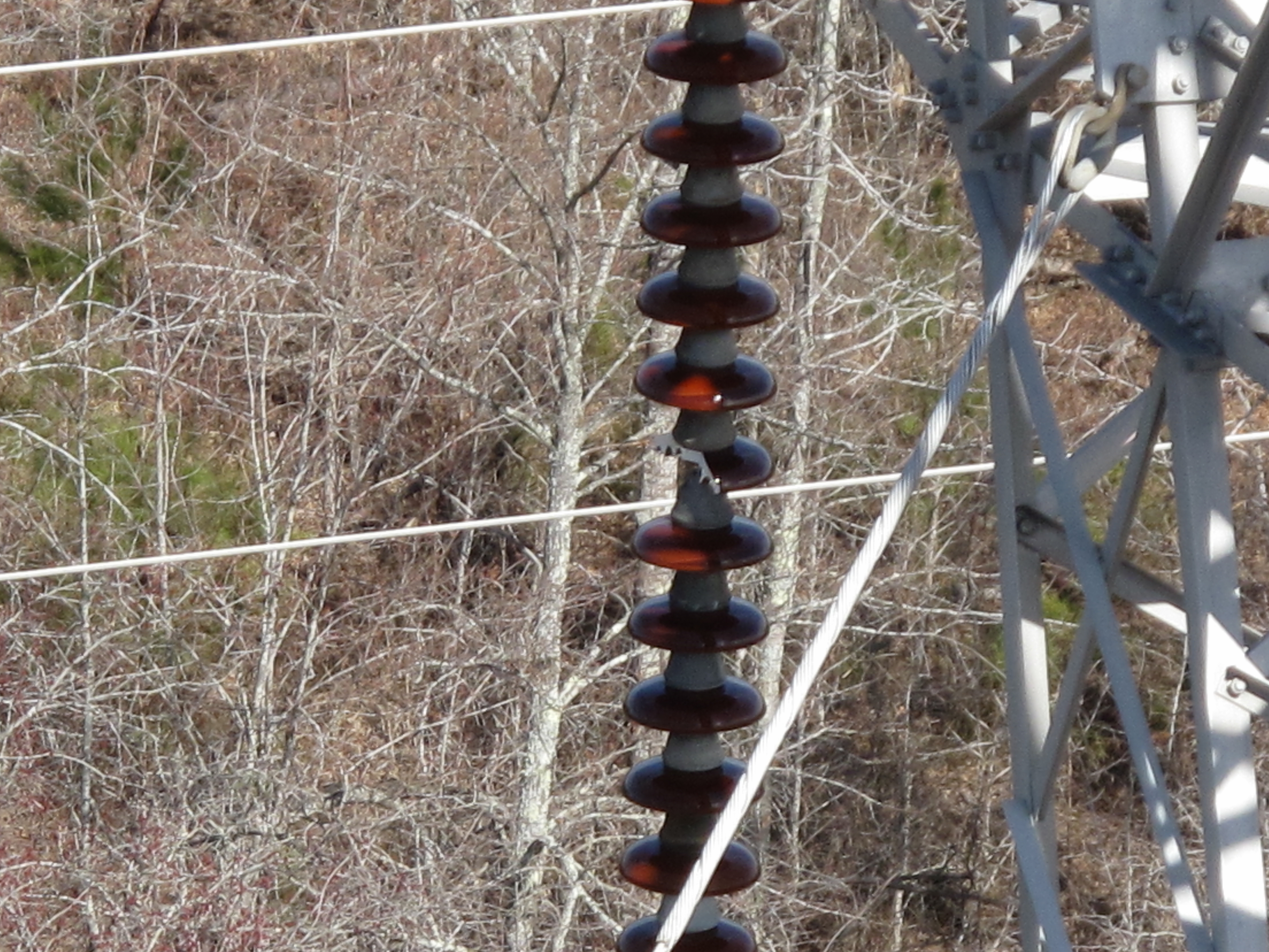damaged: (645, 427, 739, 491)
insulator: (620, 0, 799, 952)
